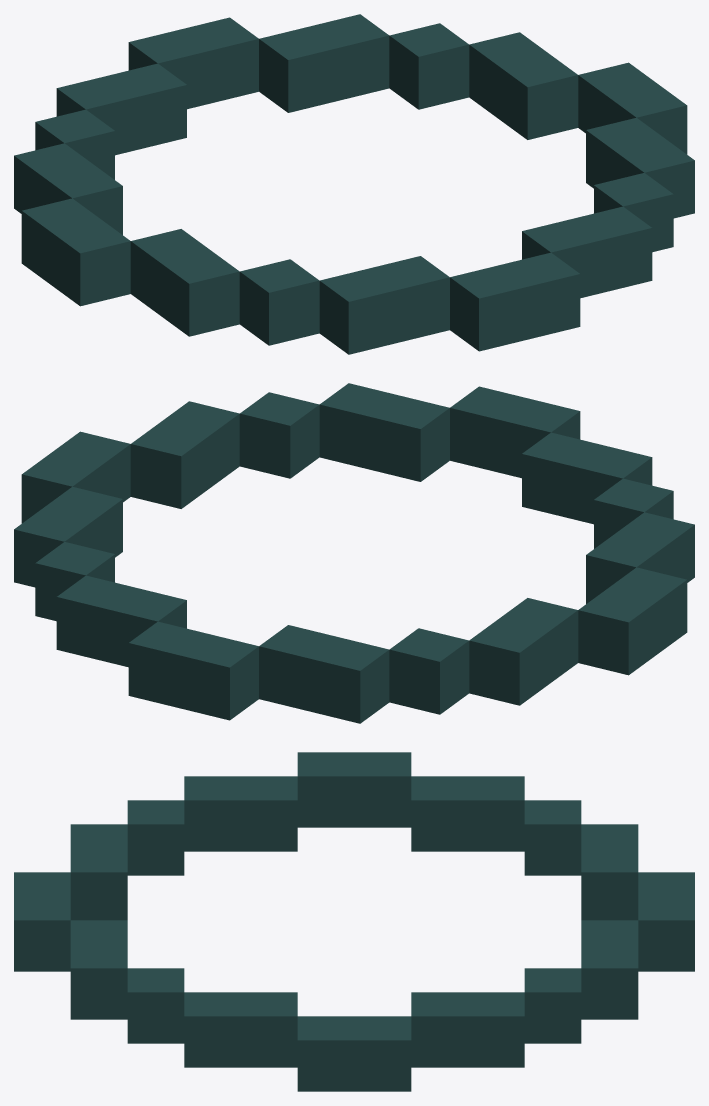
File: Crystal_Ring_1.obj
3 views of the same model, one above another, from view 1: azimuth 30°, elevation 25°; view 2: azimuth 150°, elevation 25°; view 3: azimuth 270°, elevation 25° (orthographic). The views are drawn at different scales.
Bounding box in the file's own units: 0.3 × 0.025 × 0.3.
